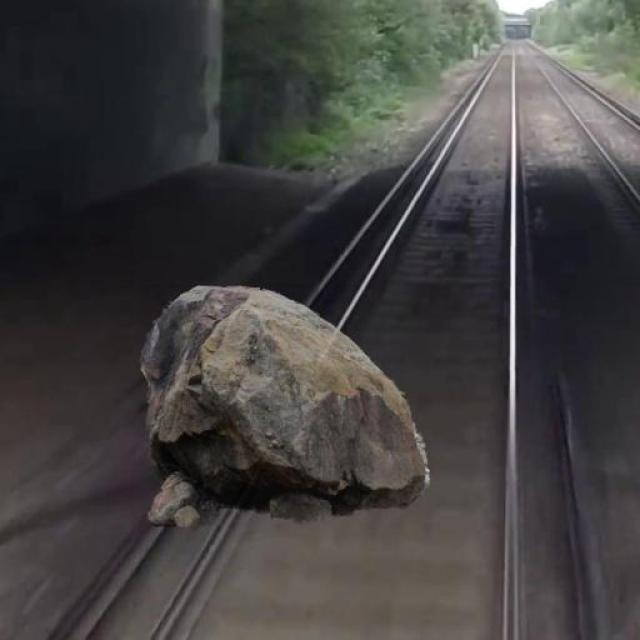Stone: (125, 279, 438, 529)
